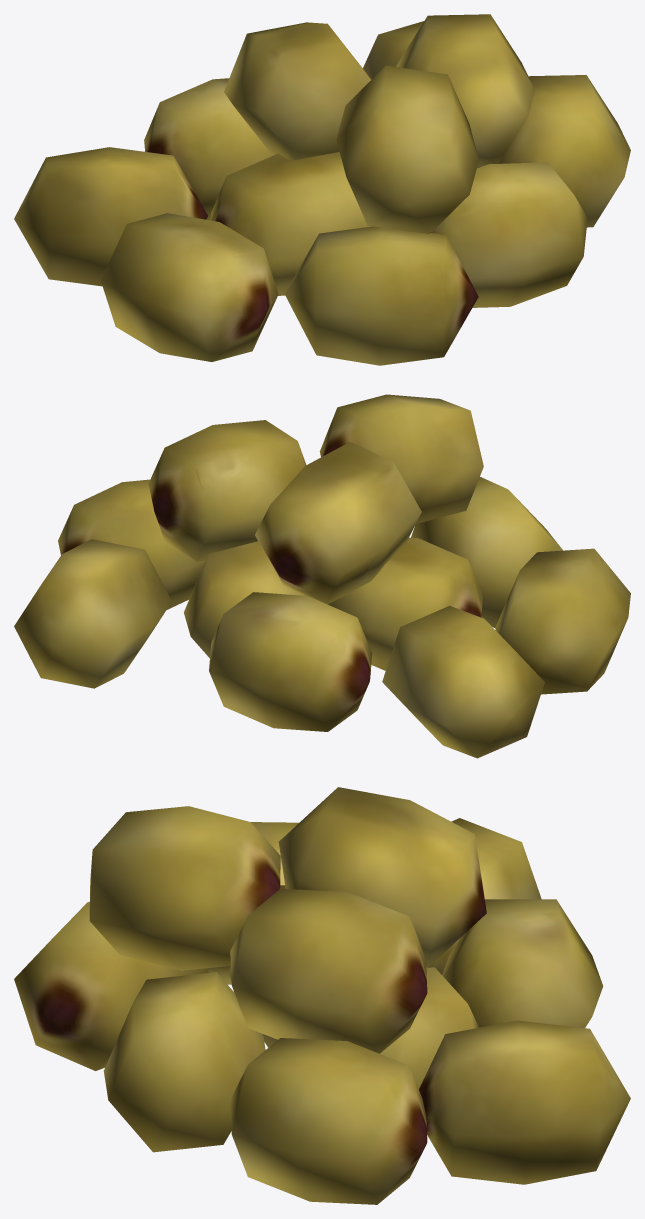
File: Antipasto_olive.fbx
The picture shows the model from 3 angles, top to bottom: view 1: azimuth 30°, elevation 25°; view 2: azimuth 150°, elevation 25°; view 3: azimuth 270°, elevation 25°; orthographic projection. The views are drawn at different scales.
Visible parts, largest first — view 1: Antipasto_olive; view 2: Antipasto_olive; view 3: Antipasto_olive.
Boxes of the visible parts, x1=… form: Antipasto_olive: x1=14, y1=14, x2=630, y2=365; Antipasto_olive: x1=14, y1=394, x2=630, y2=758; Antipasto_olive: x1=14, y1=787, x2=630, y2=1204.
Bounding box in the file's own units: 0.1205 × 0.0488 × 0.1028.
